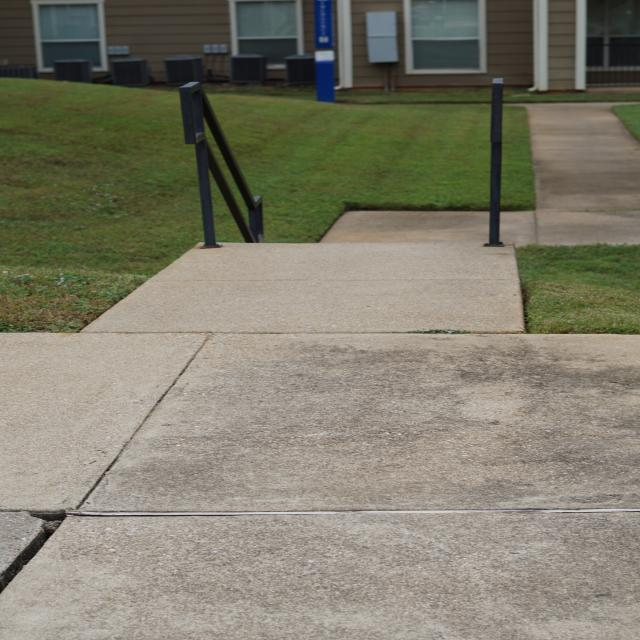Obstacle: (179, 82, 264, 248), (484, 81, 504, 247)
Sidewalk: (1, 103, 640, 640)
